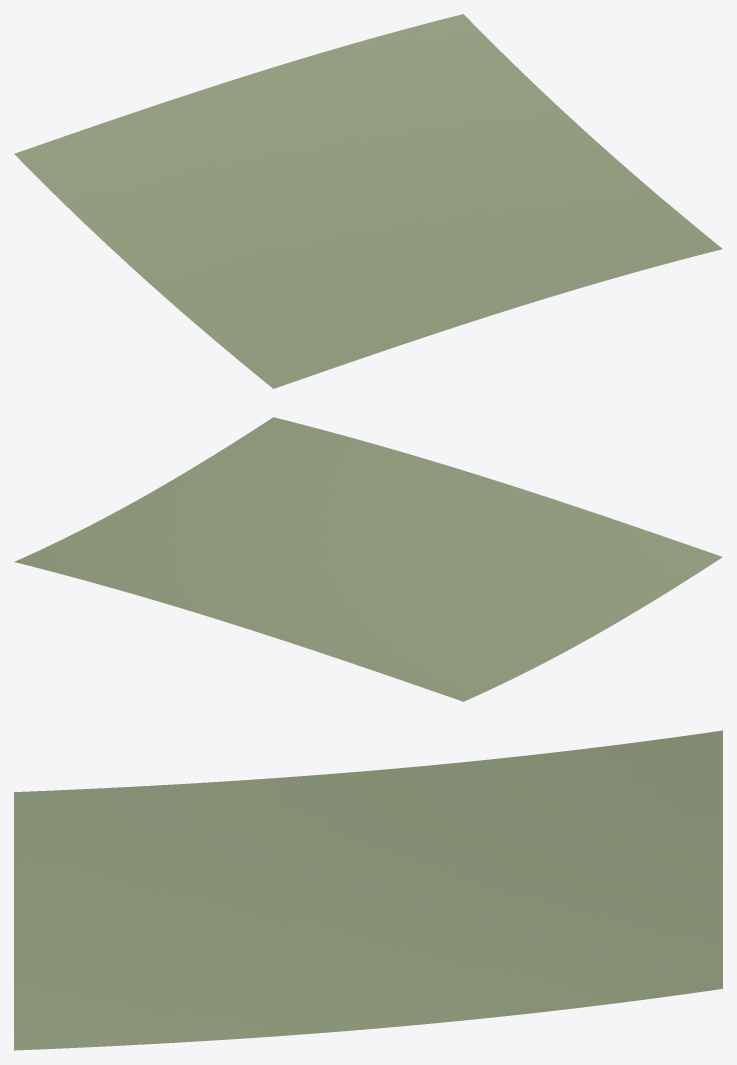
File: valley-10-3.glb
3 views of the same model, one above another, from view 1: azimuth 30°, elevation 25°; view 2: azimuth 150°, elevation 25°; view 3: azimuth 270°, elevation 25° (orthographic). The views are drawn at different scales.
Visible parts, largest first — view 1: valley-10-3; view 2: valley-10-3; view 3: valley-10-3.
Part boxes in pixels (left/top/right/bottom): valley-10-3: left=14, top=14, right=722, bottom=388; valley-10-3: left=14, top=417, right=722, bottom=701; valley-10-3: left=14, top=730, right=722, bottom=1050.
Bounding box in the file's own units: 256 × 41.01 × 256.
